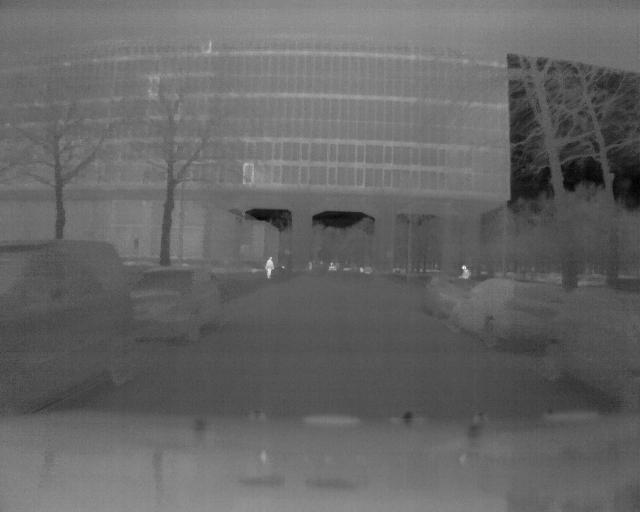car: (1, 239, 142, 415), (541, 288, 640, 407), (446, 278, 583, 347), (124, 264, 225, 341)
person: (265, 255, 274, 281), (459, 262, 471, 280)
